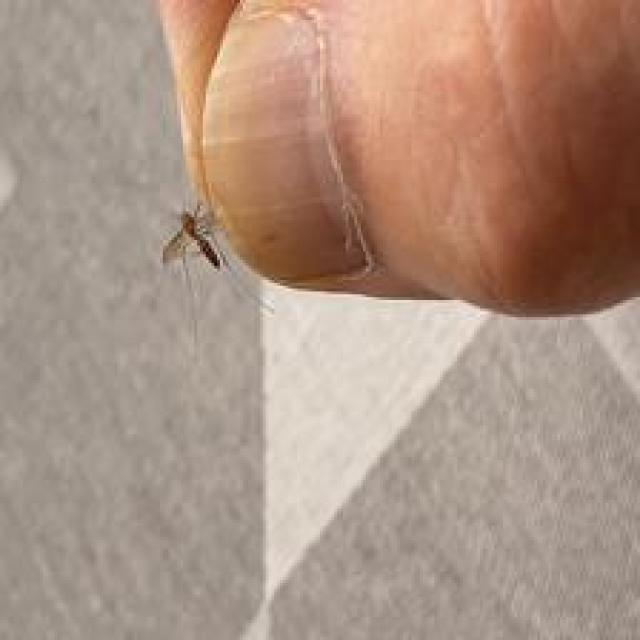Culex: (160, 201, 229, 276)
